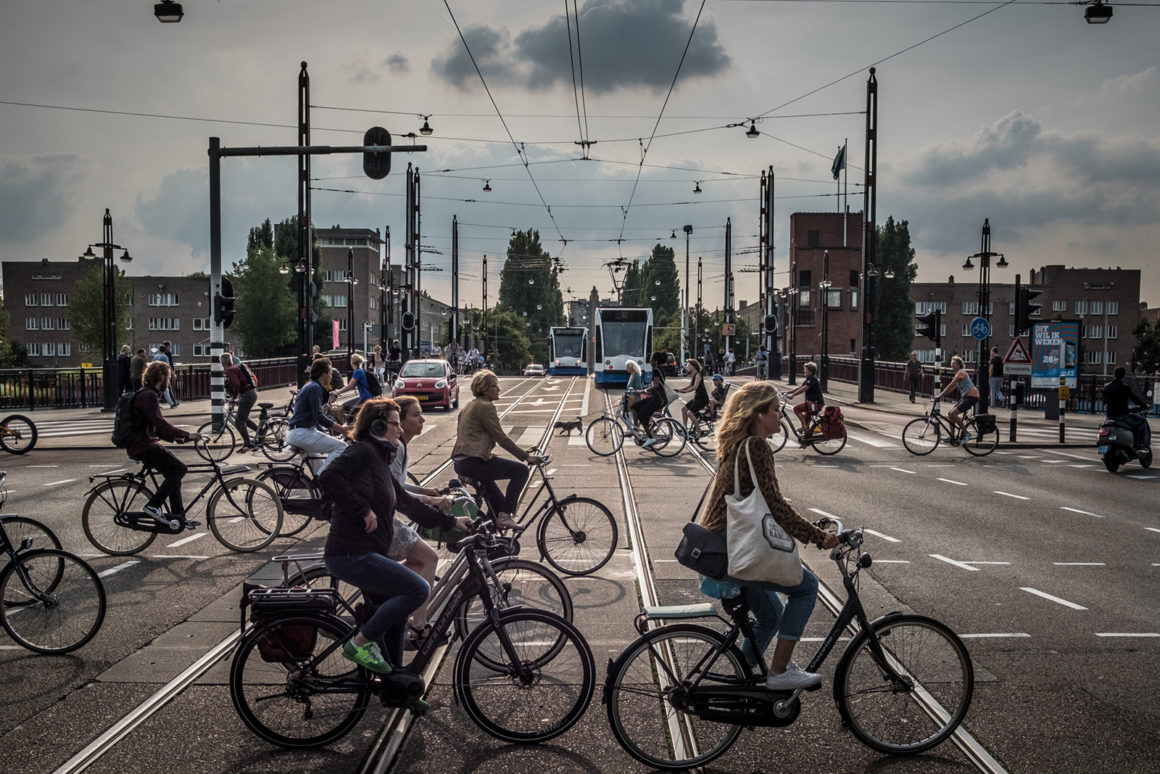commuter: (604, 385, 979, 774), (228, 398, 599, 750), (81, 363, 292, 556), (432, 370, 618, 565), (580, 356, 687, 458), (901, 356, 1005, 460), (757, 361, 849, 459)
